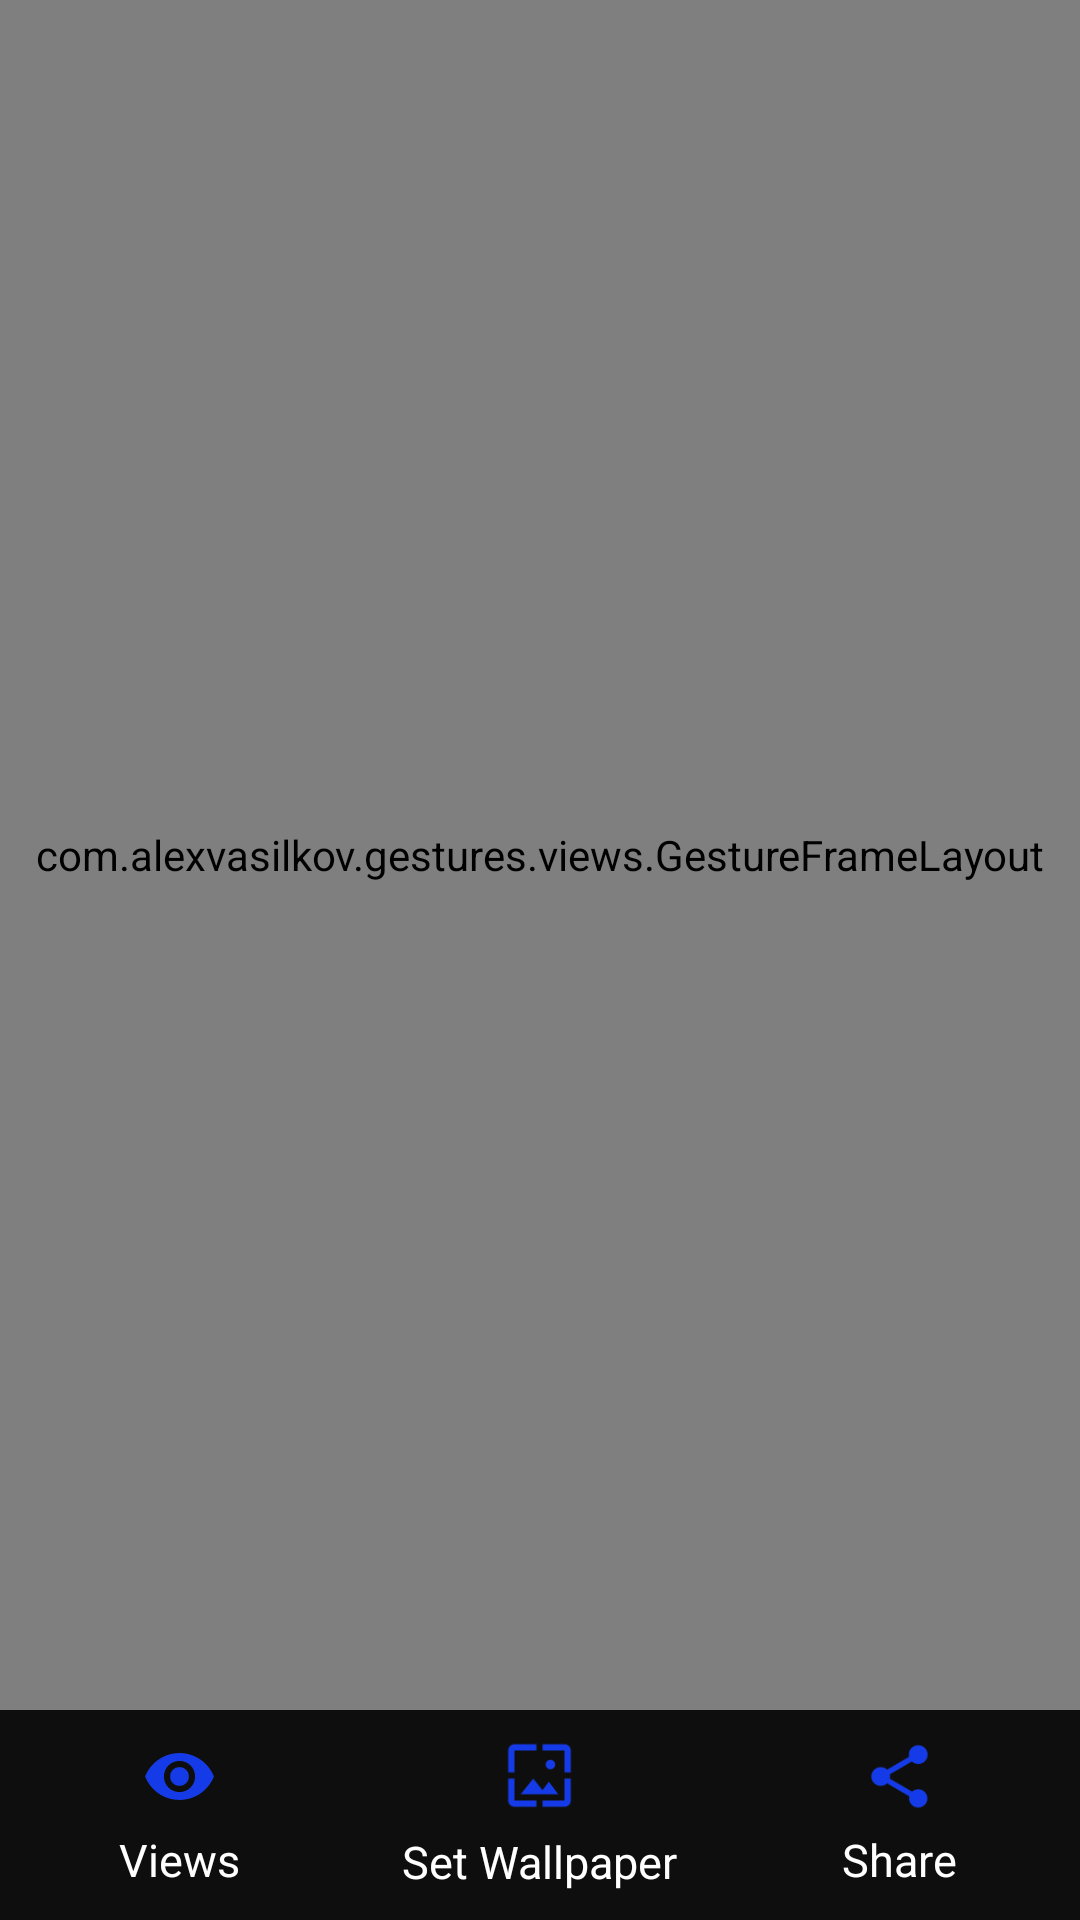

Icons on this 1080 × 1920 Android screen, each with its box as (x1, y1, x2, y2):
eye: (145, 1753, 214, 1800)
